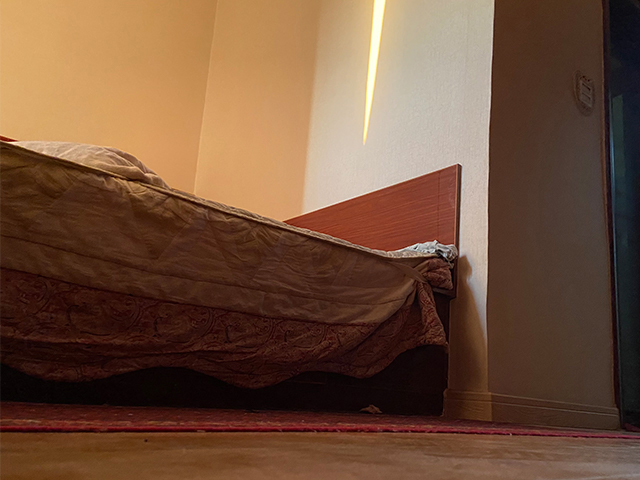bed: (1, 135, 462, 416)
carpet: (1, 401, 640, 441)
